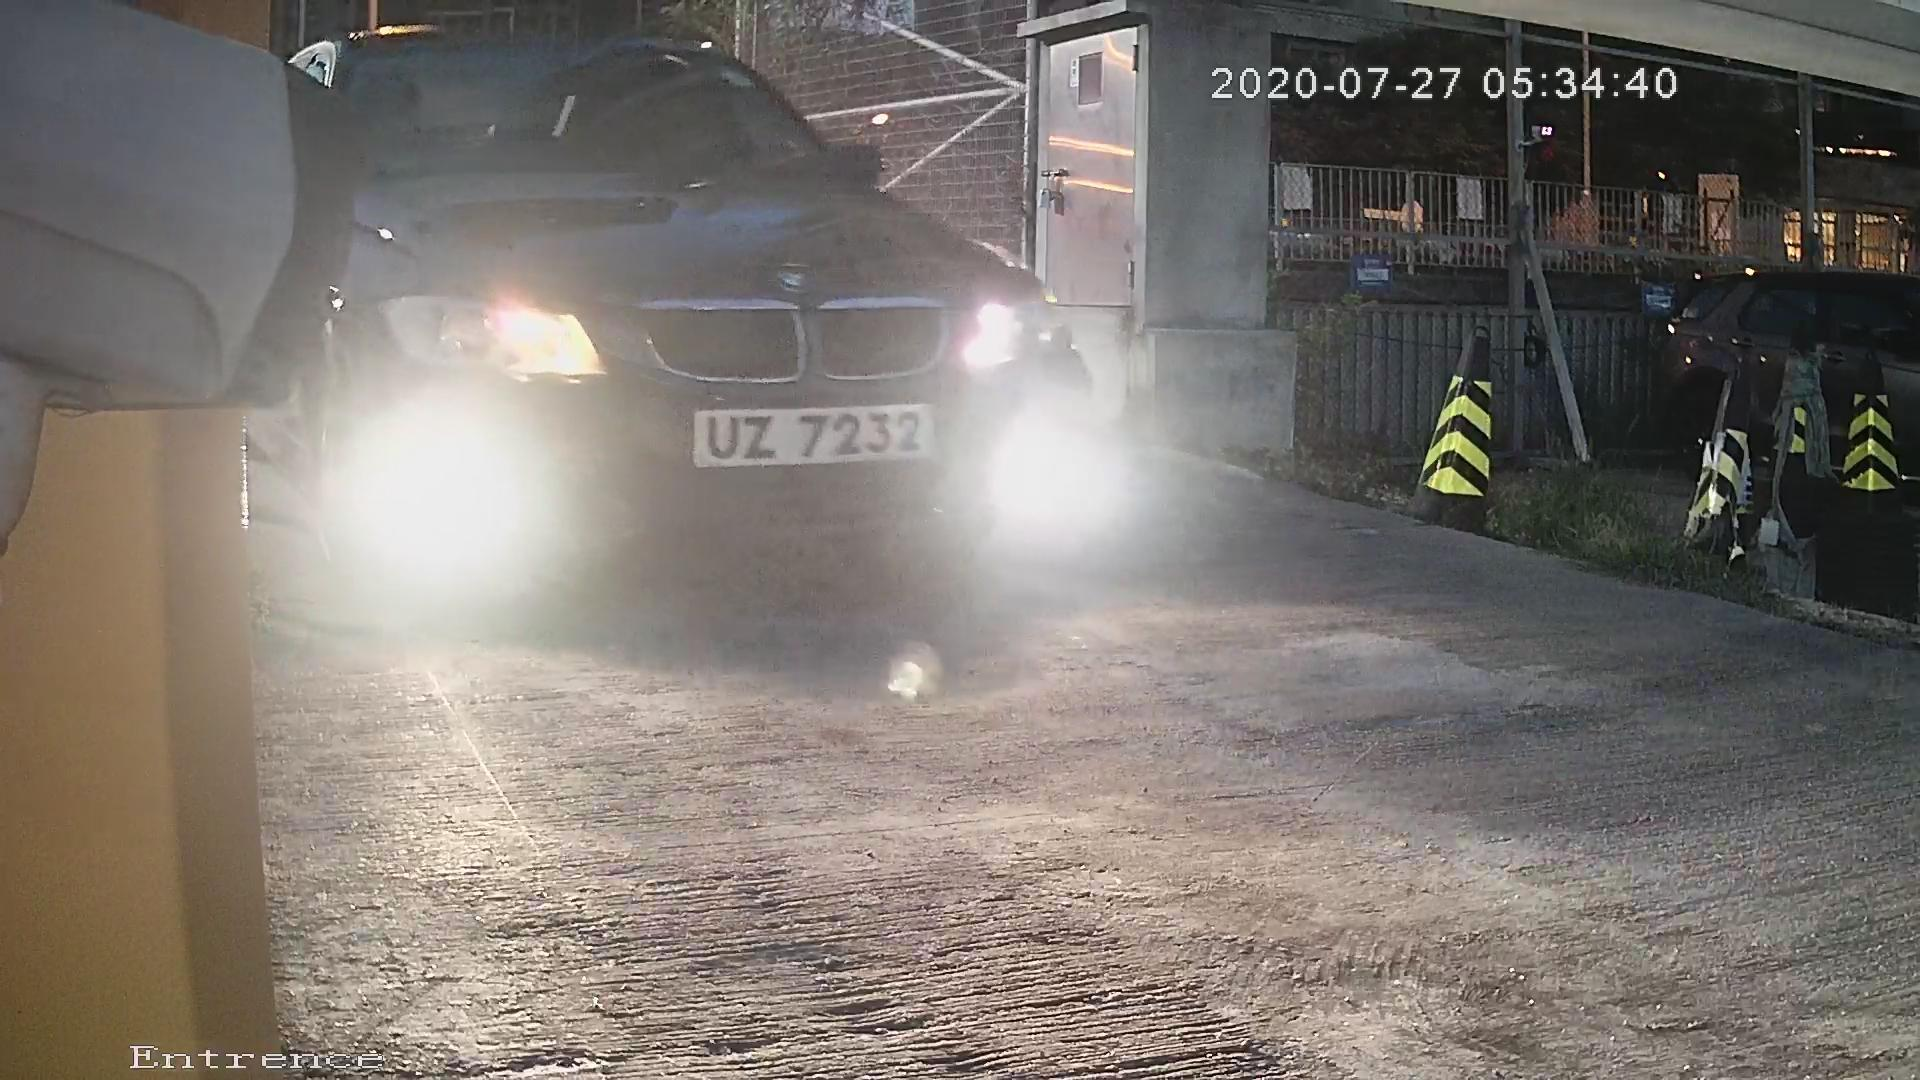License Plate: (661, 386, 952, 487)
